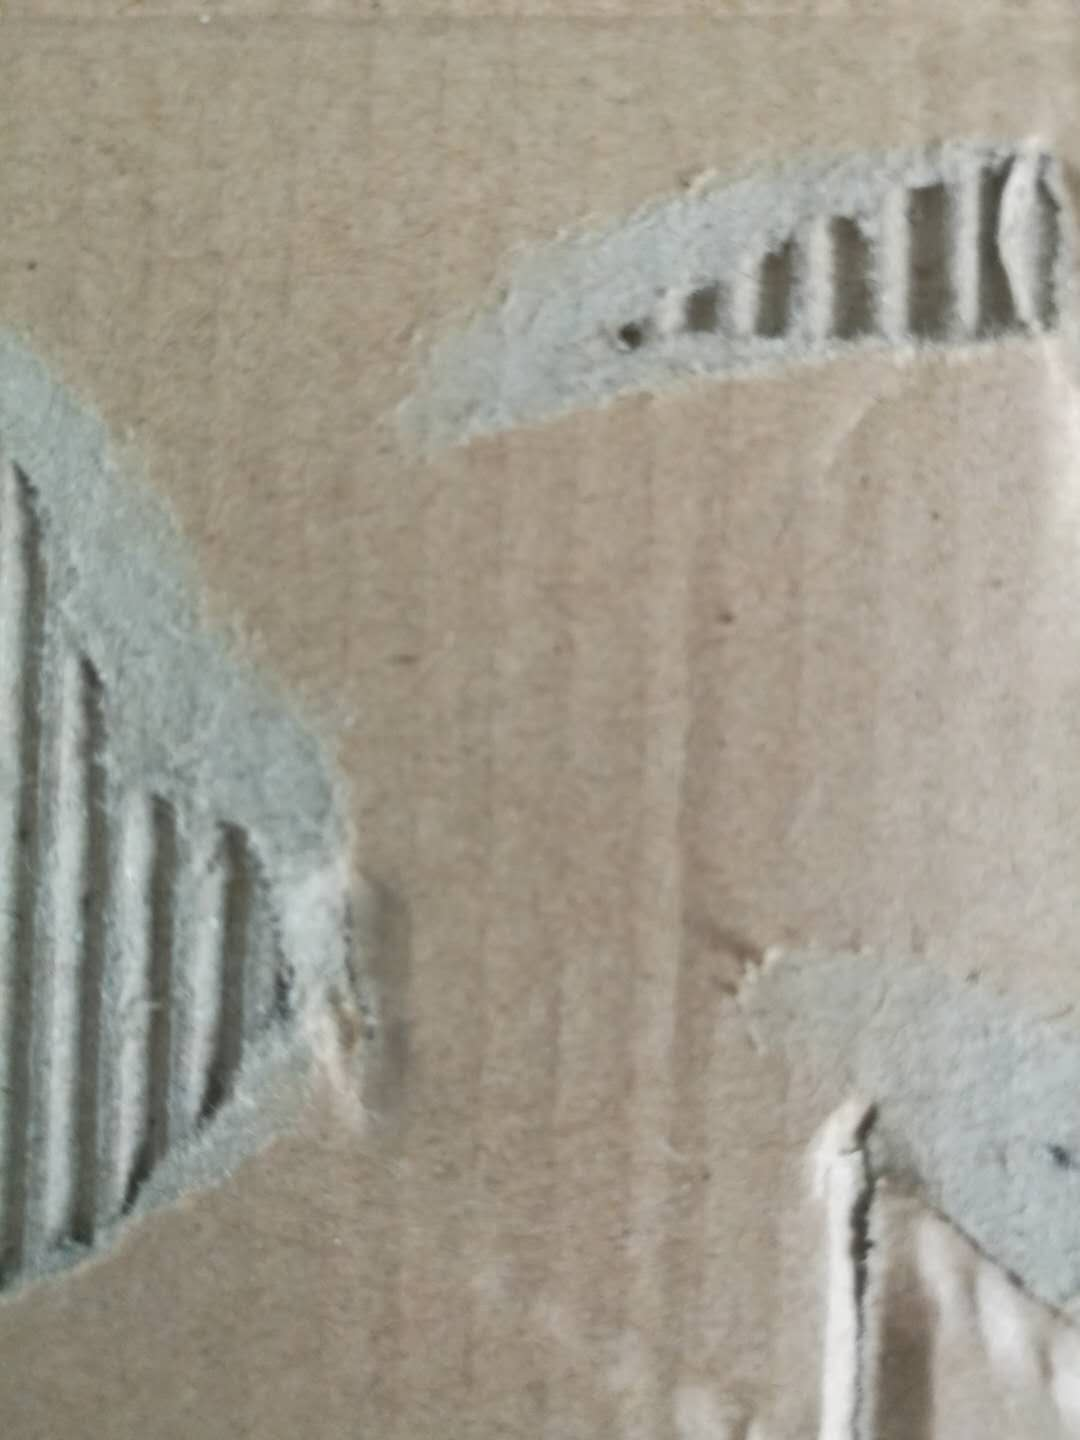defect: (3, 295, 456, 1333), (366, 115, 1080, 474), (667, 906, 1079, 1440)
